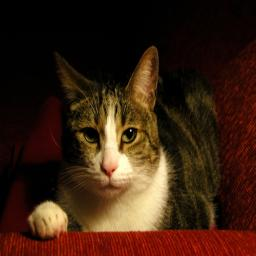catnose: (100, 149, 120, 178)
